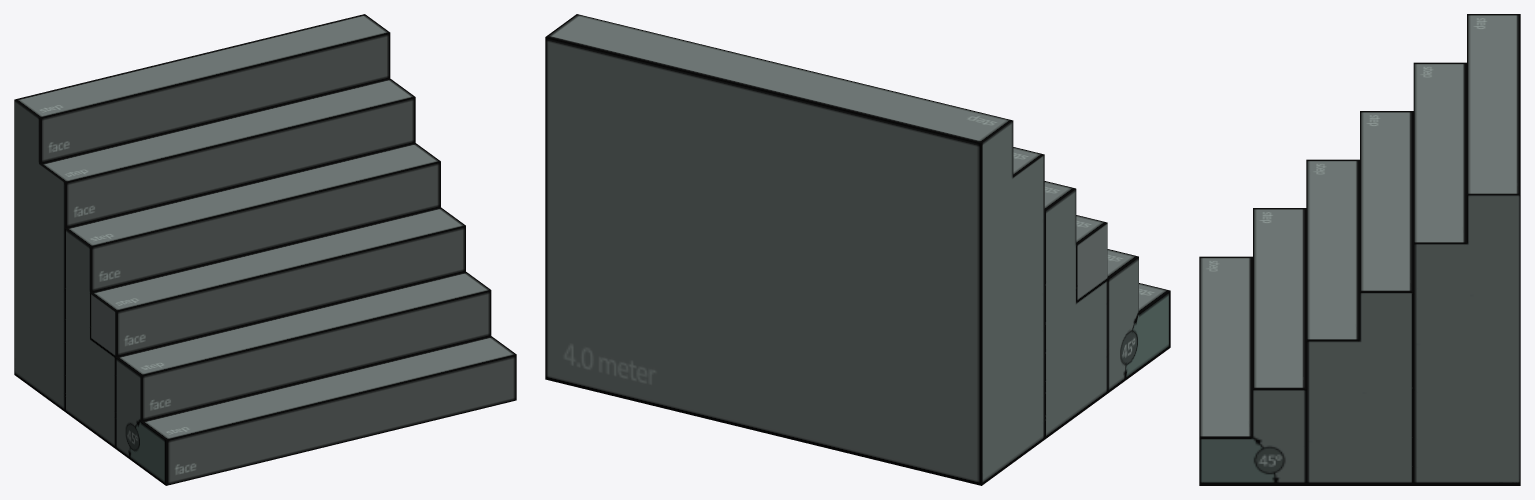
Rendered from Stairs_45_03.fbx.
3 renders of one model, left to right at view 1: azimuth 30°, elevation 25°; view 2: azimuth 150°, elevation 25°; view 3: azimuth 270°, elevation 25°, orthographic. The views are drawn at different scales.
Visible parts, largest first — view 1: Stairs_45_03; view 2: Stairs_45_03; view 3: Stairs_45_03.
Part boxes in pixels (left/top/right/bottom): Stairs_45_03: left=14, top=14, right=516, bottom=485; Stairs_45_03: left=545, top=14, right=1170, bottom=485; Stairs_45_03: left=1199, top=14, right=1520, bottom=485.
Size of the model in its own units: 4 by 3 by 3.
